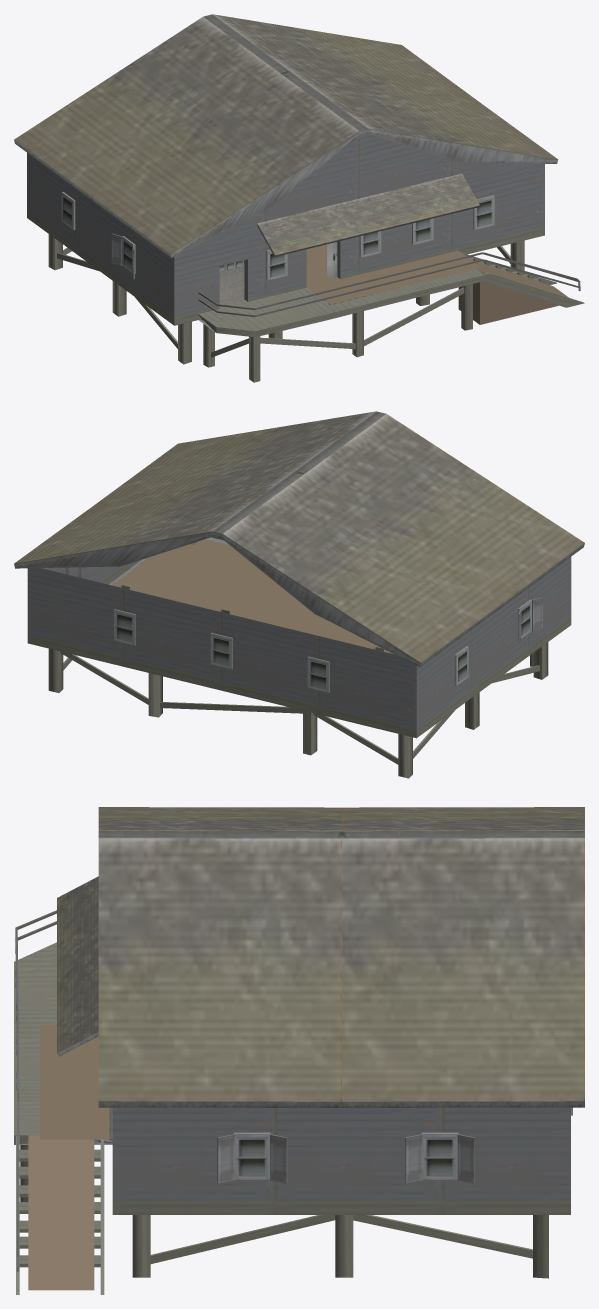
The model's file is rural-wood-1.walls-v1.lod1.glb.
3 views of the same model, one above another, from view 1: azimuth 30°, elevation 25°; view 2: azimuth 150°, elevation 25°; view 3: azimuth 270°, elevation 25° (orthographic). The views are drawn at different scales.
Visible parts, largest first — view 1: Rural_WoodenBuilding_1_Rural_Housetrim_1_0, Rural_WoodenBuilding_1_Rural_Walltrim_1_0, Walkable floors and stairs; view 2: Rural_WoodenBuilding_1_Rural_Housetrim_1_0, Rural_WoodenBuilding_1_Rural_Walltrim_1_0, Walkable floors and stairs; view 3: Rural_WoodenBuilding_1_Rural_Housetrim_1_0, Rural_WoodenBuilding_1_Rural_Walltrim_1_0, Walkable floors and stairs.
Part boxes in pixels (x1=…): Rural_WoodenBuilding_1_Rural_Housetrim_1_0: x1=14, y1=14, x2=580, y2=332; Rural_WoodenBuilding_1_Rural_Walltrim_1_0: x1=27, y1=133, x2=584, y2=382; Walkable floors and stairs: x1=306, y1=244, x2=568, y2=324; Rural_WoodenBuilding_1_Rural_Housetrim_1_0: x1=14, y1=411, x2=584, y2=692; Rural_WoodenBuilding_1_Rural_Walltrim_1_0: x1=27, y1=536, x2=571, y2=778; Walkable floors and stairs: x1=112, y1=539, x2=393, y2=654; Rural_WoodenBuilding_1_Rural_Housetrim_1_0: x1=14, y1=807, x2=584, y2=1271; Rural_WoodenBuilding_1_Rural_Walltrim_1_0: x1=14, y1=942, x2=570, y2=1294; Walkable floors and stairs: x1=28, y1=1024, x2=109, y2=1290.
Bounding box in the file's own units: 21.07 × 10.44 × 17.27.
Materials: 3 (2 with a texture image).
